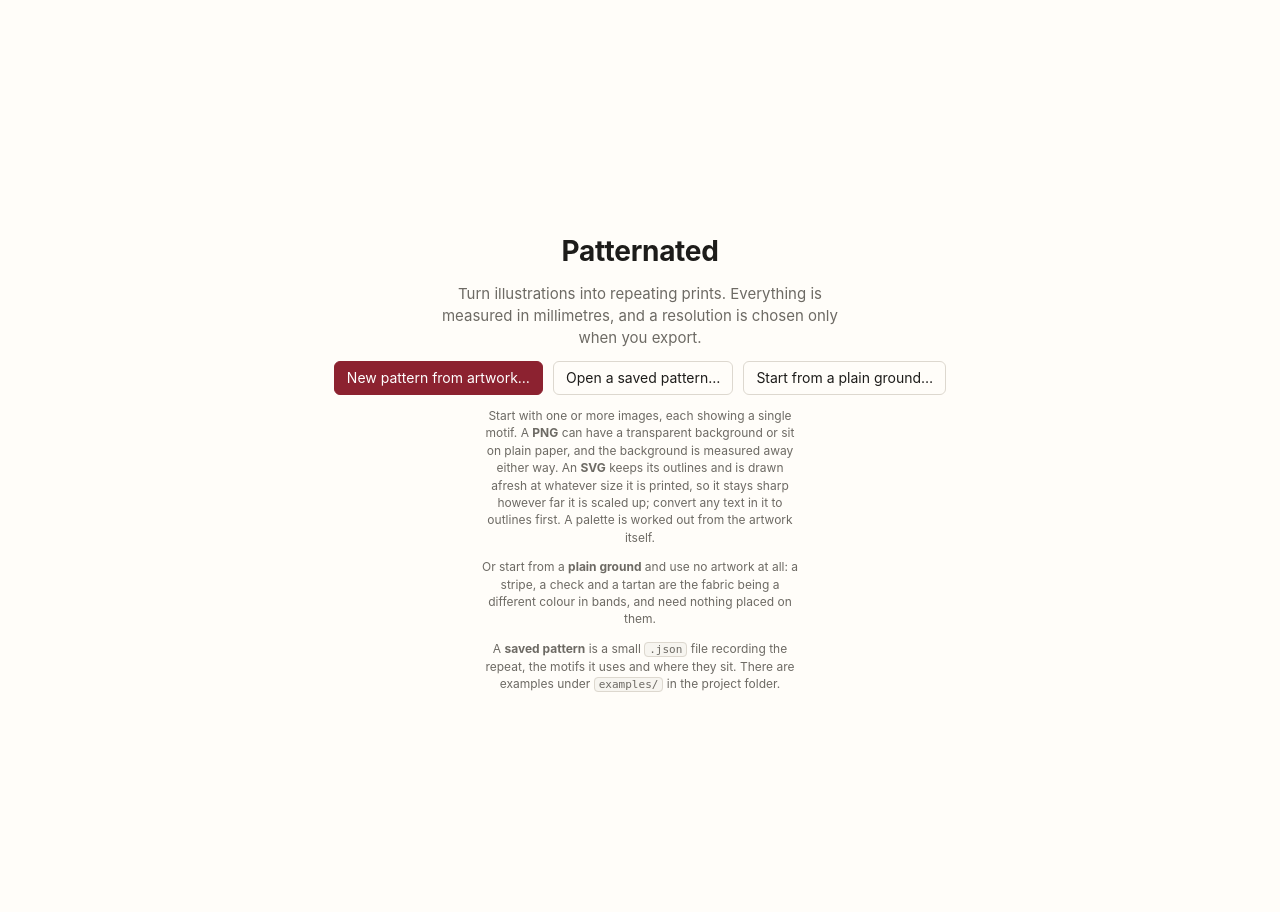
Test: the motif mix › says what does set the count, and it is not on this panel
Click the button "Open a saved pattern…" at (643, 378), box [553,361,733,395]
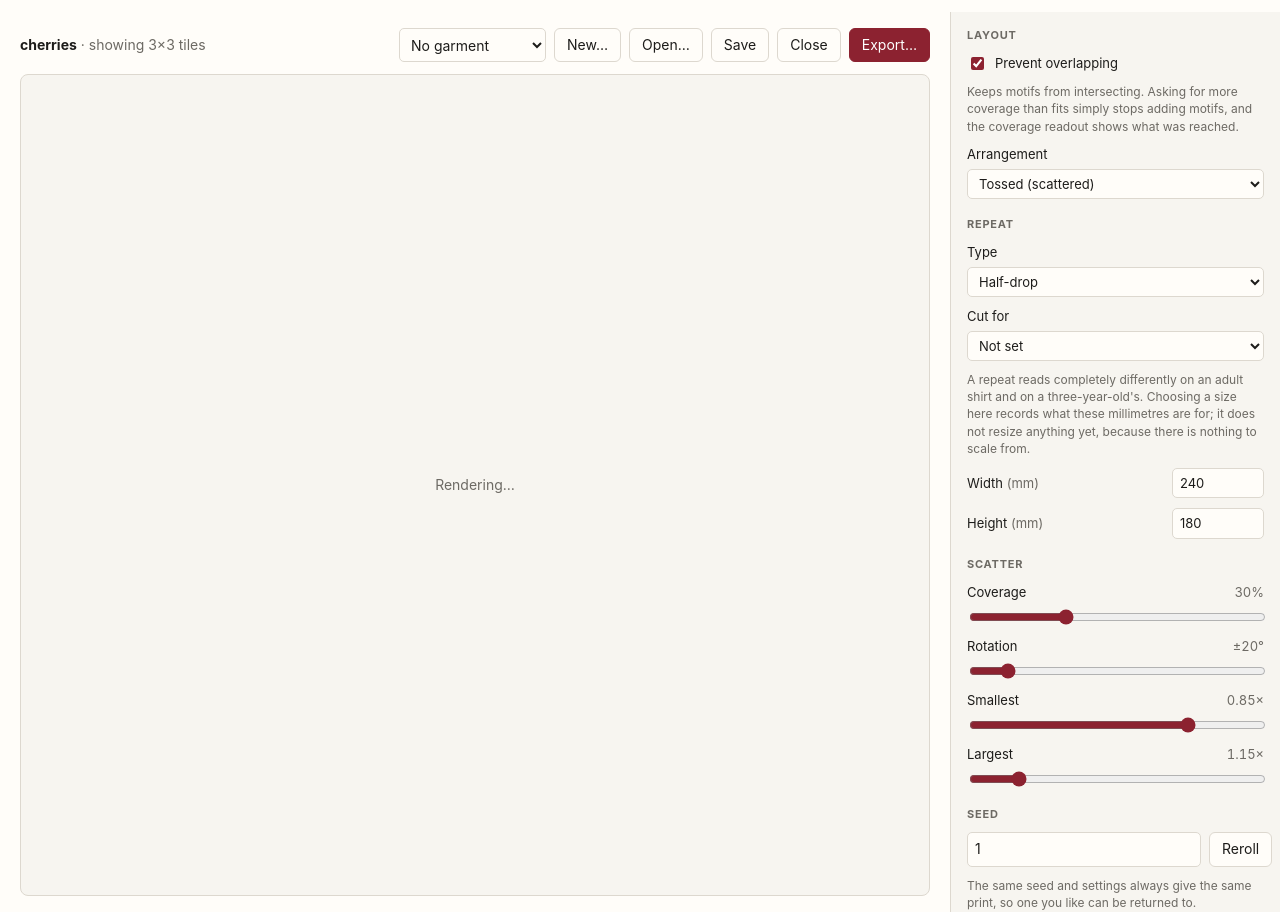
Check: the button with test id "close" is shown, box [777,28,841,62]
Select "Square grid" in the dropdown with test id "layout" at (1116, 184), box [967,169,1264,199]
(page scrolled)
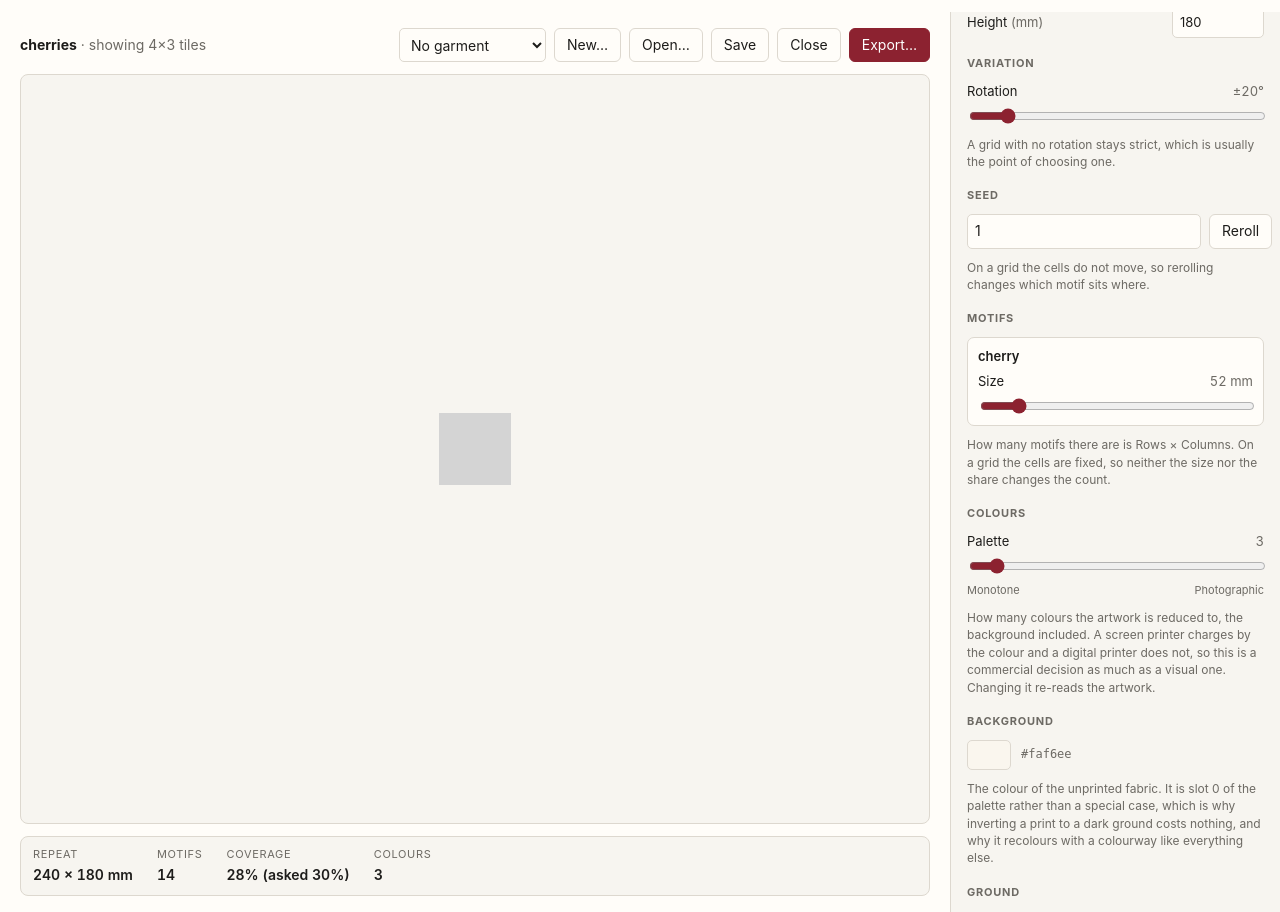
Check: the text with test id "what-sets-the-count" shows "Rows × Columns", box [967,437,1257,487]
